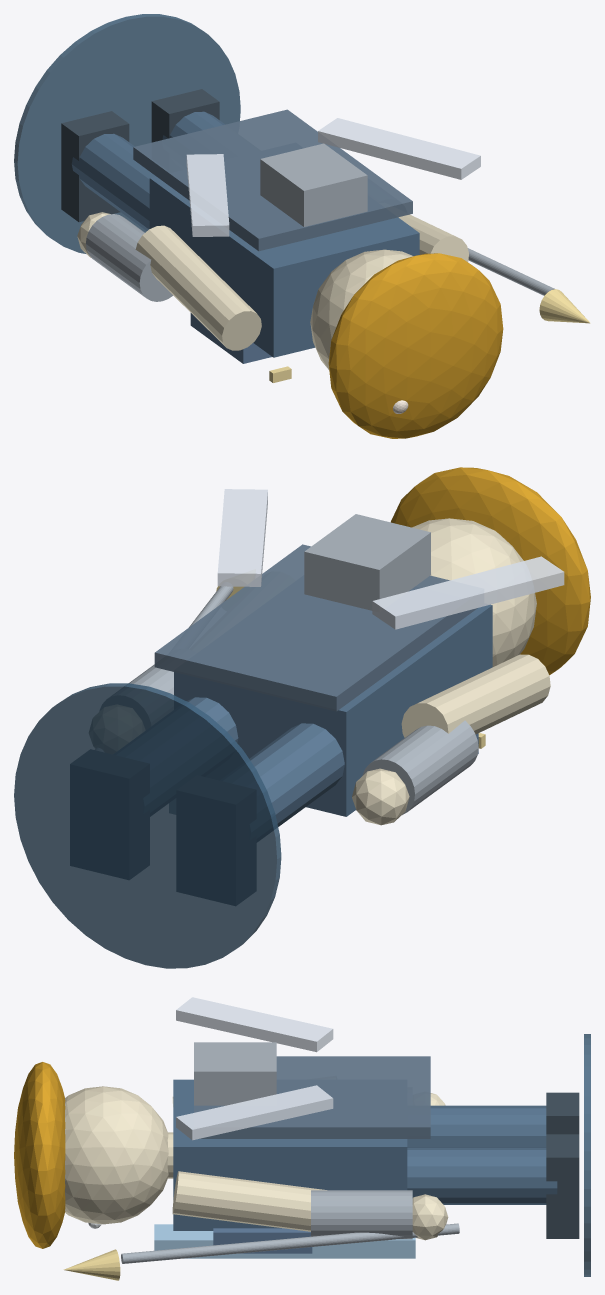
Rendered from SW_NPC_006_fenn_glasswake.glb.
3 renders of one model, top to bottom at view 1: azimuth 30°, elevation 25°; view 2: azimuth 150°, elevation 25°; view 3: azimuth 270°, elevation 25°, orthographic. The views are drawn at different scales.
Parts seen in each view (by area): view 1: mycelian_cap, round_base_plate, torso_uniform, storm_cloak, wingpack_core, left_upper_arm, left_leg, right_wing_rig, head, left_forearm_gauntlet, left_boot, left_wing_rig (+6 smaller); view 2: round_base_plate, storm_cloak, torso_uniform, mycelian_cap, wingpack_core, head, left_upper_arm, left_wing_rig, left_leg, left_forearm_gauntlet, right_wing_rig, left_hand (+2 smaller); view 3: torso_uniform, head, storm_cloak, mycelian_cap, right_leg, right_upper_arm, left_leg, wingpack_core, right_forearm_gauntlet, right_wing_rig, left_wing_rig, rank_sash (+7 smaller).
Part boxes in pixels (x1,y1,x2,y2): mycelian_cap: (328, 253, 503, 438); round_base_plate: (14, 14, 240, 253); torso_uniform: (149, 176, 419, 357); storm_cloak: (133, 109, 412, 251); wingpack_core: (260, 143, 367, 226); left_upper_arm: (135, 225, 261, 350); left_leg: (71, 133, 155, 230); right_wing_rig: (318, 118, 480, 179); head: (310, 249, 413, 369); left_forearm_gauntlet: (85, 214, 172, 301); left_boot: (61, 111, 129, 222); left_wing_rig: (186, 154, 229, 236); round_base_plate: (14, 683, 281, 968); storm_cloak: (154, 544, 477, 711); torso_uniform: (174, 604, 492, 816); mycelian_cap: (391, 467, 590, 675); wingpack_core: (304, 514, 430, 610); head: (412, 518, 536, 666); left_upper_arm: (401, 654, 550, 737); left_wing_rig: (372, 556, 564, 629); left_leg: (249, 723, 344, 826); left_forearm_gauntlet: (362, 720, 478, 814); right_wing_rig: (217, 489, 267, 586); left_hand: (352, 768, 409, 825); torso_uniform: (173, 1079, 407, 1230); head: (65, 1086, 168, 1224); storm_cloak: (194, 1056, 430, 1138); mycelian_cap: (14, 1062, 65, 1248); right_leg: (407, 1147, 557, 1204); right_upper_arm: (172, 1171, 326, 1231); left_leg: (407, 1105, 546, 1147); wingpack_core: (194, 1042, 276, 1105); right_forearm_gauntlet: (311, 1190, 412, 1239); right_wing_rig: (176, 1085, 333, 1140); left_wing_rig: (176, 997, 333, 1052); rank_sash: (154, 1224, 415, 1258).
Size of the model in its own units: 1.26 by 0.84 by 1.99.
